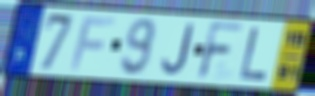7: (41, 11, 75, 72)
9: (119, 17, 158, 77)
F: (194, 20, 247, 83), (68, 15, 118, 72)
J: (160, 22, 196, 77)
L: (237, 25, 270, 82)
